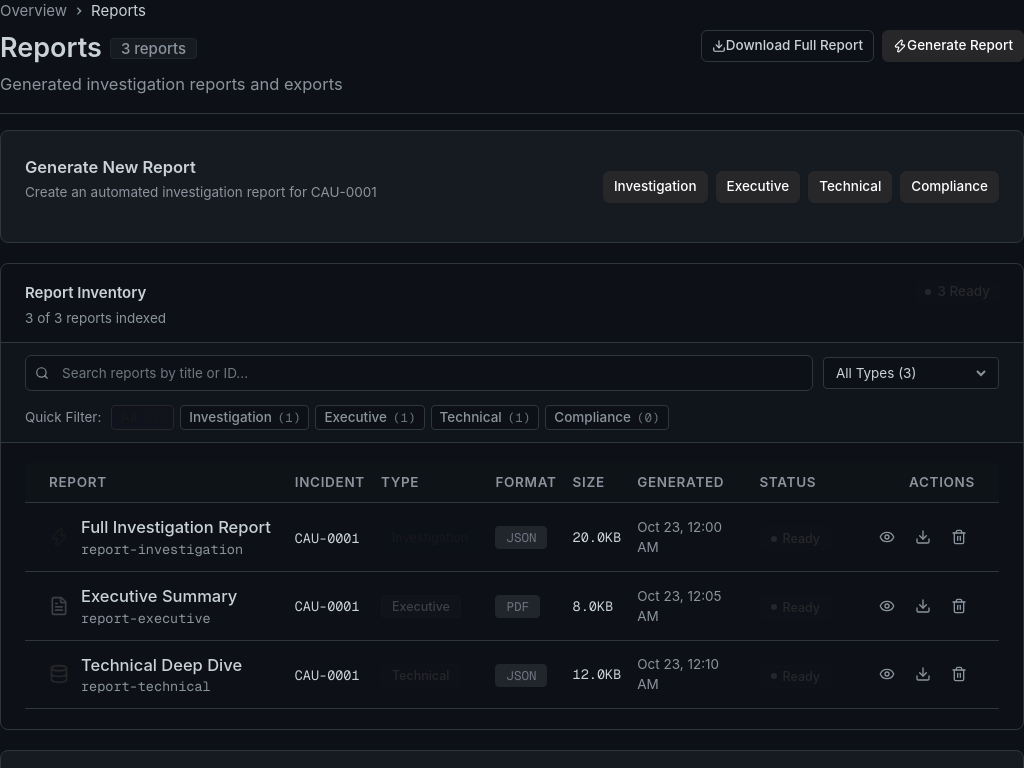
Test: ReportsPage - Action Buttons Functionality › Eye icon (View) opens the report details modal with tabs and content
Click the button named "view report": (887, 537) [871,521,903,553]
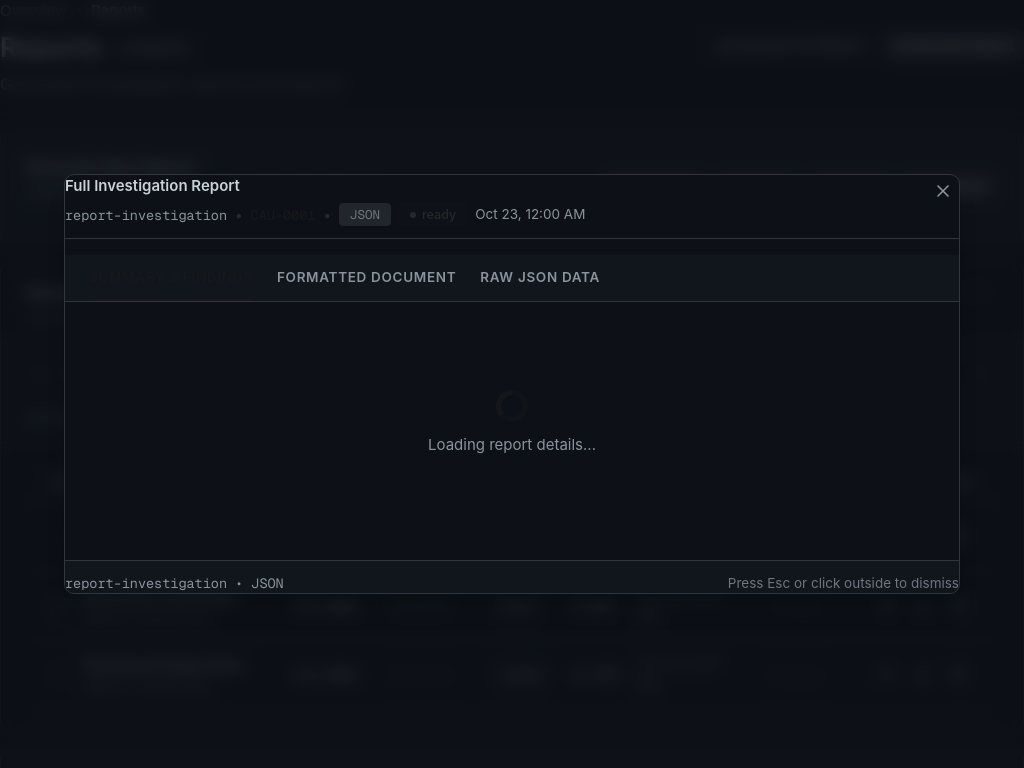
Check: the dialog is shown
Check: the heading "Full Investigation Report" is shown, box [65,176,240,195]
Check: the button "Summary & Findings" is shown, box [89,255,253,301]
Click the button "Raw JSON Data": (540, 278) [480,255,600,301]
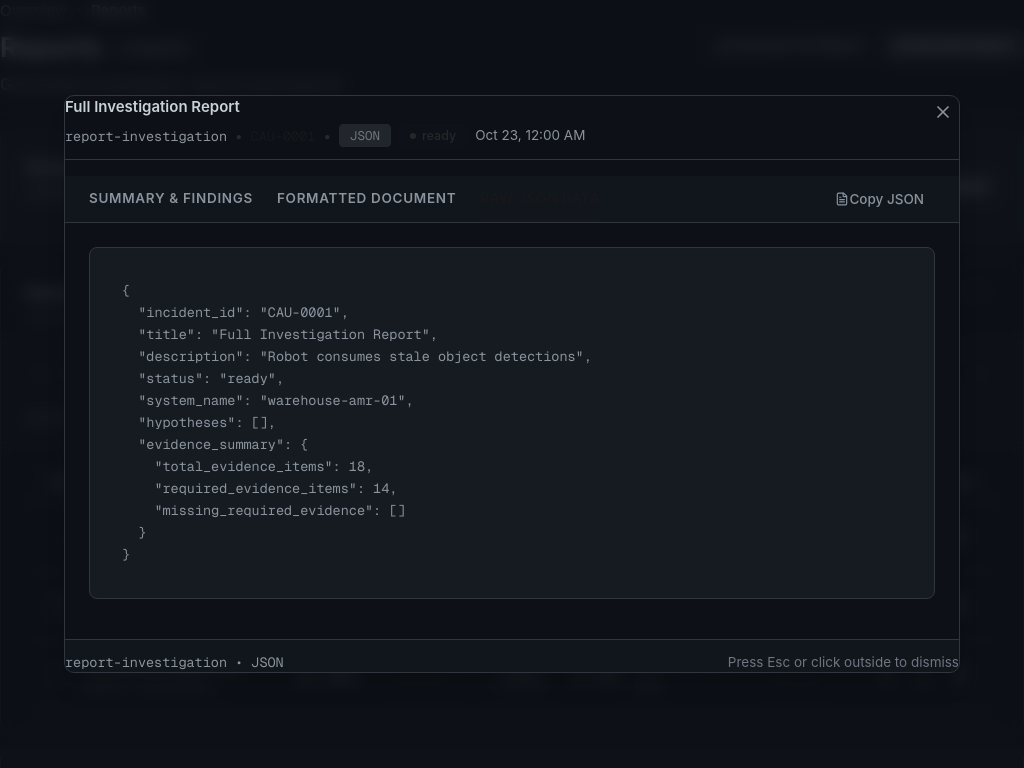
Check: the button "Copy JSON" is shown, box [824,184,935,214]
Click the button named "close report viewer": (943, 112) [927,96,959,128]
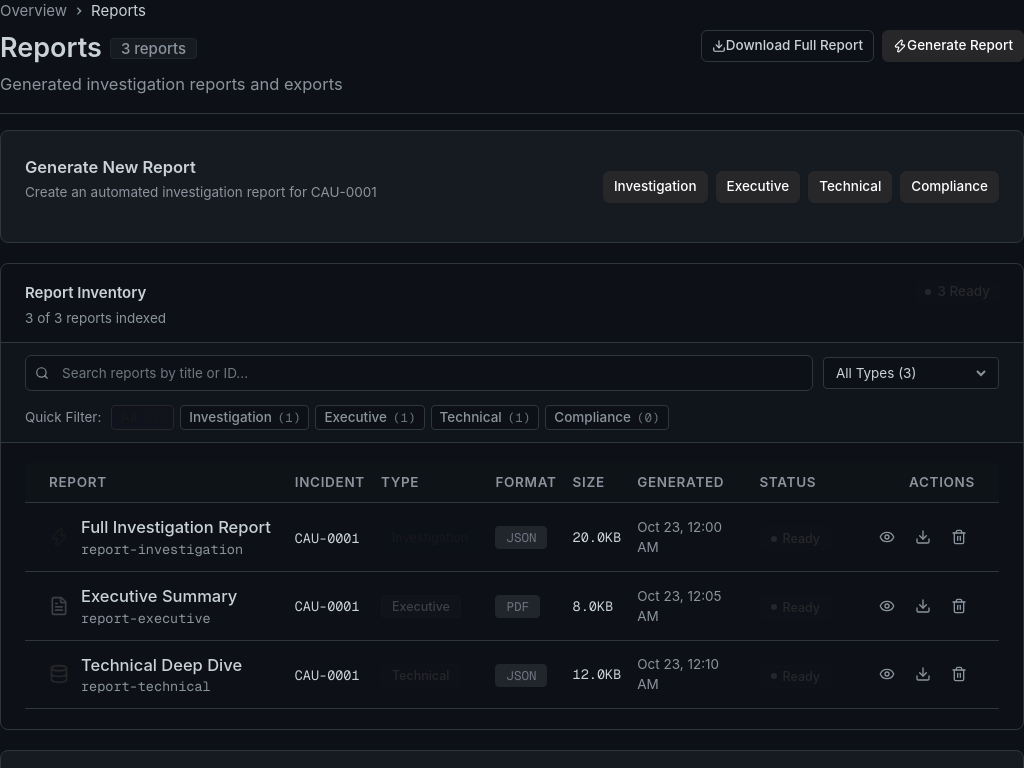
Check: the dialog is gone
